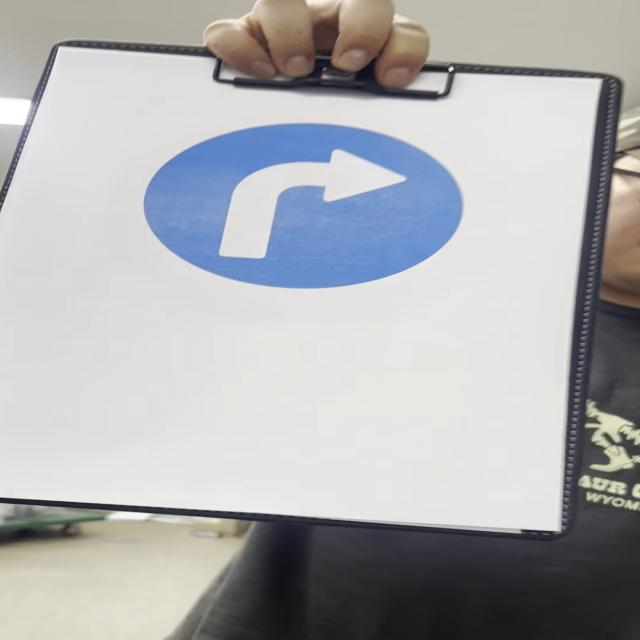right: (145, 123, 465, 291)
